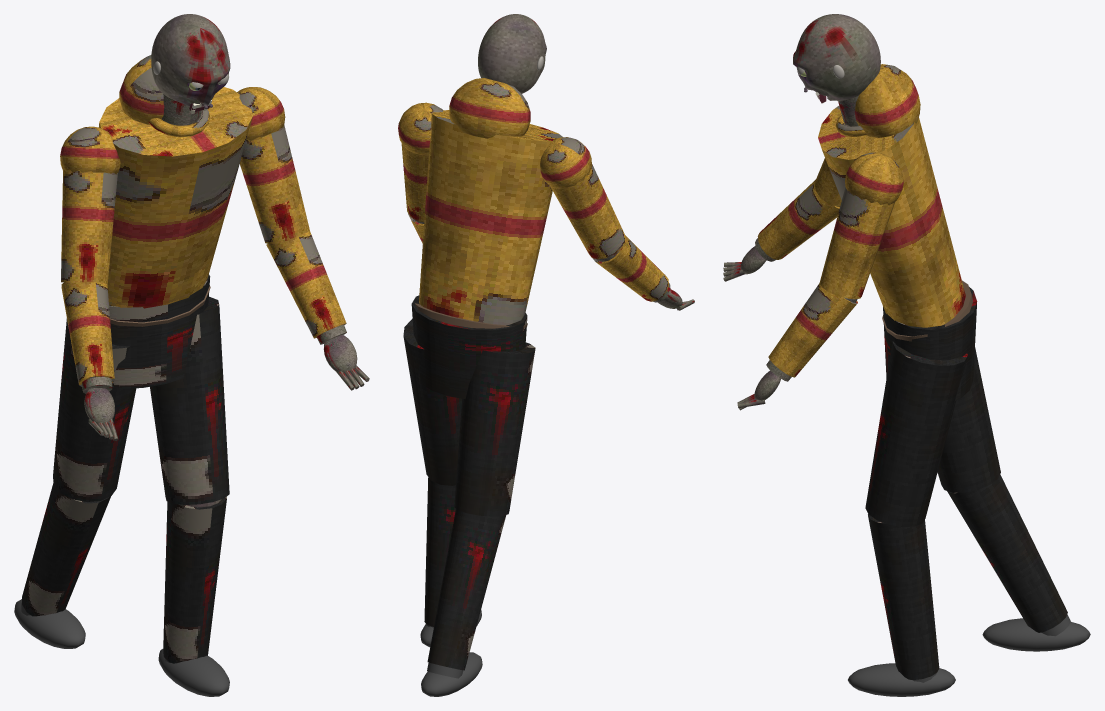
File: Zombie_057.glb
The picture shows the model from 3 angles, left to right: view 1: azimuth 30°, elevation 25°; view 2: azimuth 150°, elevation 25°; view 3: azimuth 270°, elevation 25°; orthographic projection. The views are drawn at different scales.
Visible parts, largest first — view 1: Zombie_057, object 18, object 12, object 4, object 13, object 5; view 2: Zombie_057, object 18, object 4; view 3: Zombie_057, object 18, object 12, object 4.
Part boxes in pixels (x1,y1,x2,y2): Zombie_057: (14,55,309,696); object 18: (151,14,230,106); object 12: (266,230,346,338); object 4: (61,281,114,386); object 13: (323,334,357,372); object 5: (84,388,114,424); Zombie_057: (398,78,626,696); object 18: (478,14,546,93); object 4: (592,235,668,301); Zombie_057: (814,64,1090,696); object 18: (793,14,880,101); object 12: (768,283,857,377); object 4: (757,179,839,259).
Size of the model in its own units: 0.6957 by 1.68 by 0.8498.
15 materials, 5 textured.
